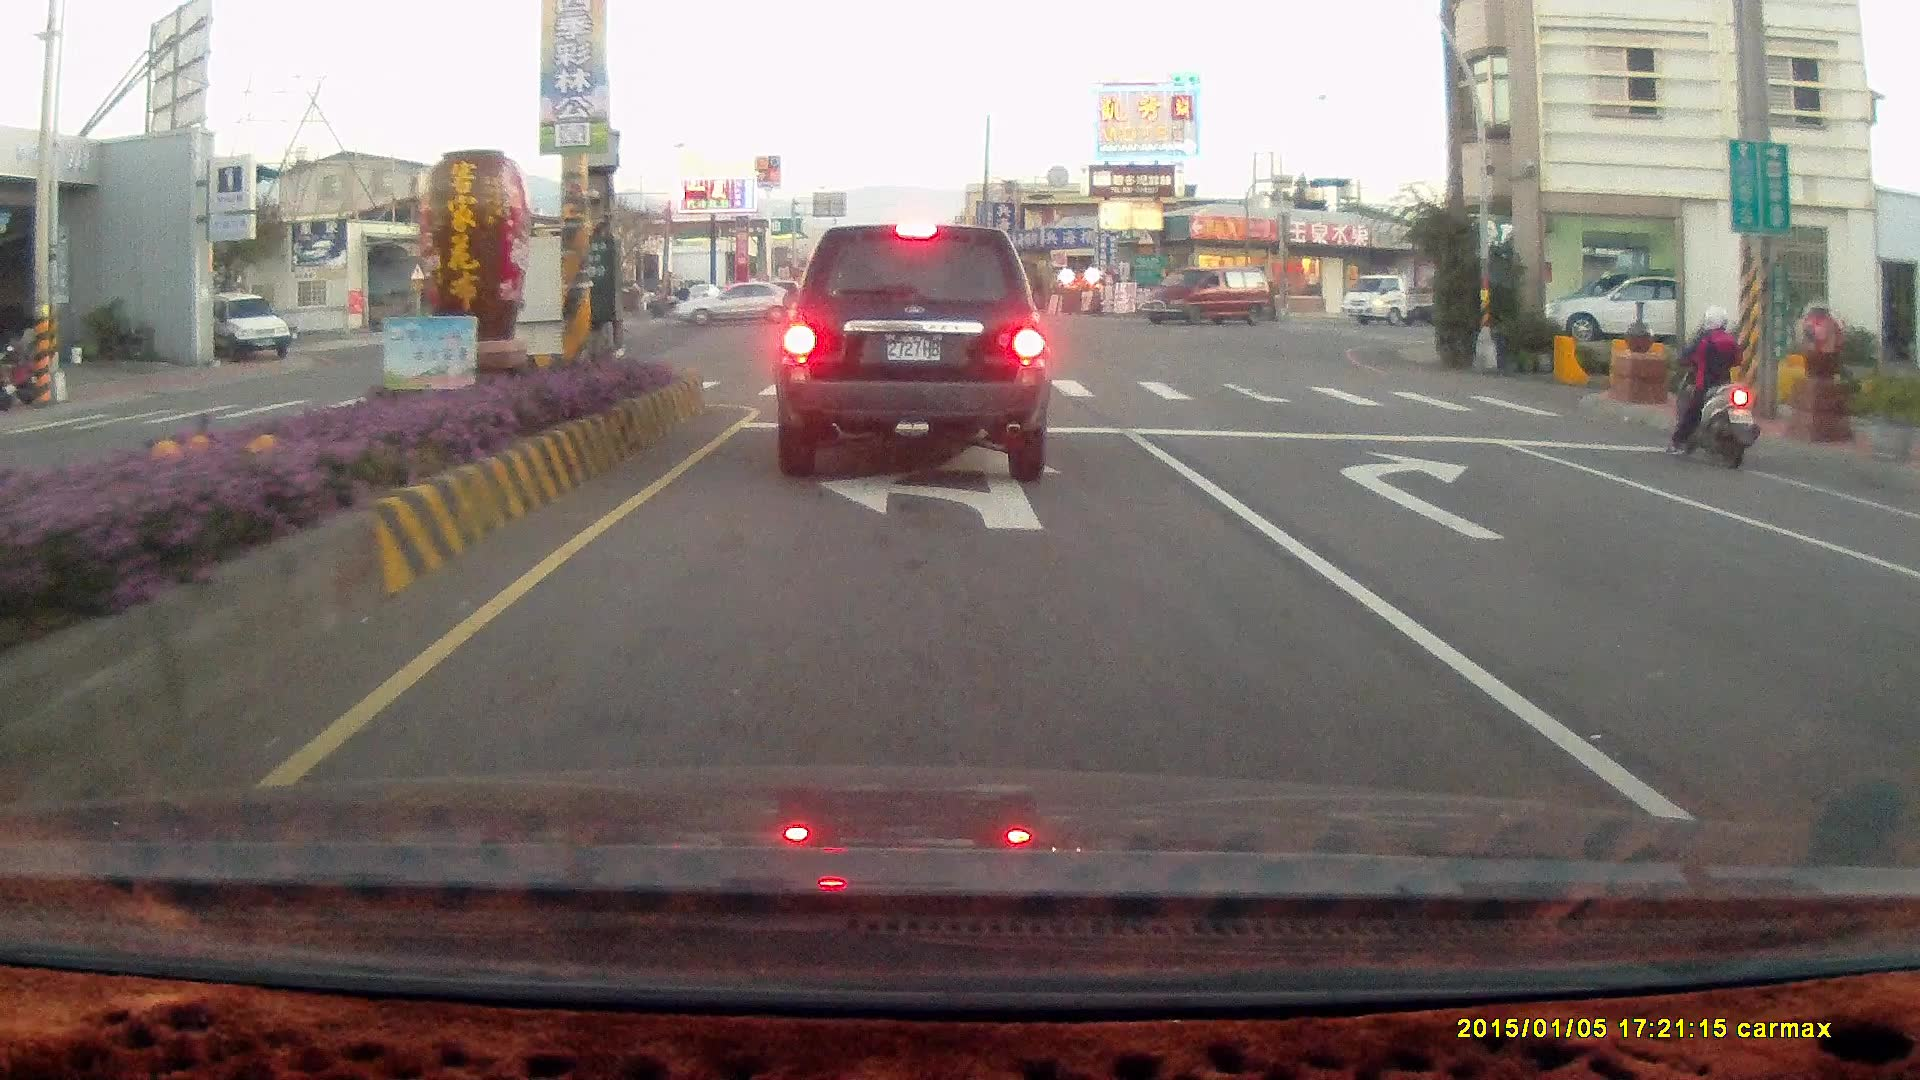rider: (1668, 305, 1760, 471)
vehicle: (772, 223, 1050, 482), (1536, 271, 1724, 350), (1560, 281, 1688, 345), (1147, 268, 1282, 328), (1896, 493, 1920, 836), (1140, 266, 1273, 326), (195, 292, 293, 364), (670, 279, 802, 327), (1883, 528, 1920, 690), (1342, 274, 1451, 330), (677, 282, 805, 328)
